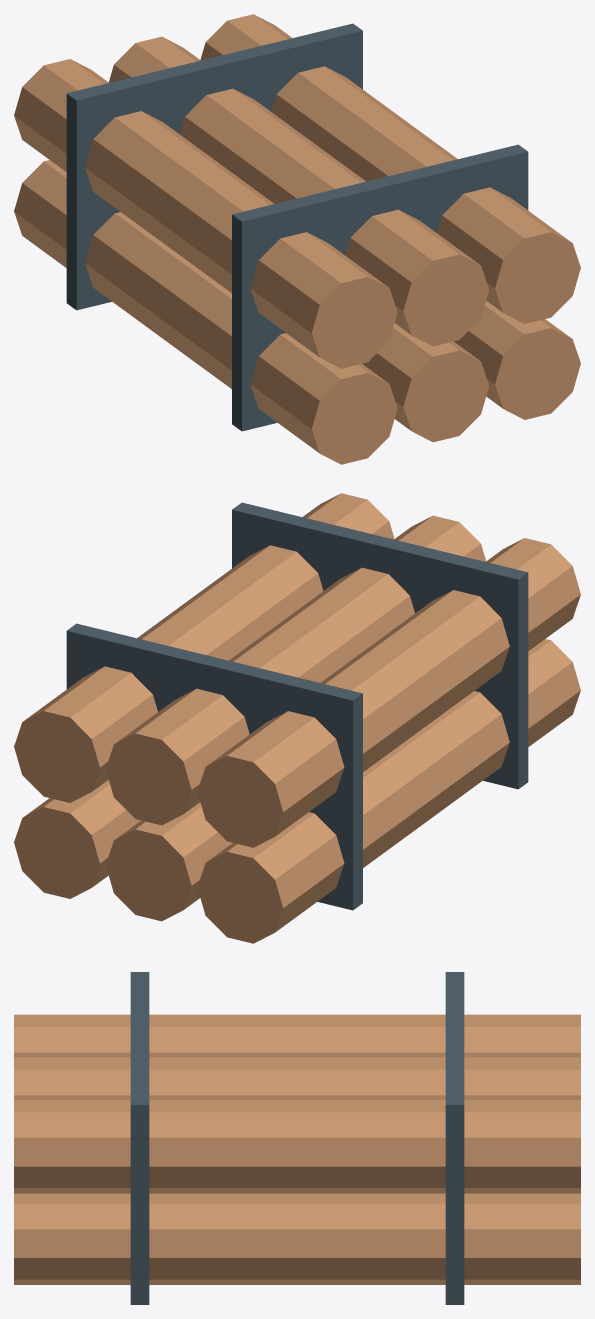
Rendered from bundled-copper-tubing.glb.
The picture shows the model from 3 angles, top to bottom: view 1: azimuth 30°, elevation 25°; view 2: azimuth 150°, elevation 25°; view 3: azimuth 270°, elevation 25°; orthographic projection. The views are drawn at different scales.
Visible parts, largest first — view 1: copper, dark; view 2: copper, dark; view 3: copper, dark.
Boxes of the visible parts, x1,y1,x2,y2 form: copper: (14,14,580,464); dark: (66,23,528,431); copper: (14,493,580,943); dark: (66,502,528,910); copper: (14,1014,580,1284); dark: (130,972,464,1304).
Bounding box in the file's own units: 0.5 × 0.35 × 0.9.
